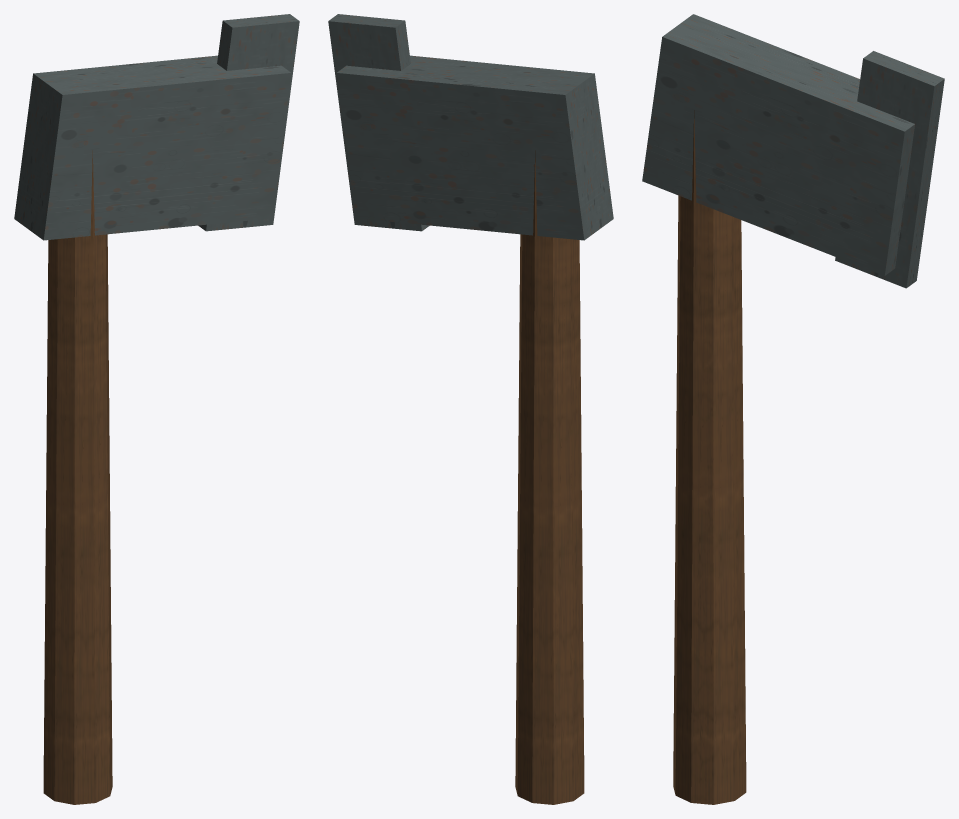
The model's file is ax-tool-001_survival_axe__clean.obj.
3 renders of one model, left to right at view 1: azimuth 30°, elevation 25°; view 2: azimuth 150°, elevation 25°; view 3: azimuth 330°, elevation 25°, orthographic. The views are drawn at different scales.
Parts seen in each view (by area): view 1: ax-tool-001_survival_axe__clean; view 2: ax-tool-001_survival_axe__clean; view 3: ax-tool-001_survival_axe__clean.
Part boxes in pixels (bbox=[...]): ax-tool-001_survival_axe__clean: bbox=[14, 14, 299, 804]; ax-tool-001_survival_axe__clean: bbox=[328, 14, 613, 804]; ax-tool-001_survival_axe__clean: bbox=[642, 14, 944, 804].
Size of the model in its own units: 0.3913 by 1.03 by 0.09.
Materials: 2 (2 with a texture image).
